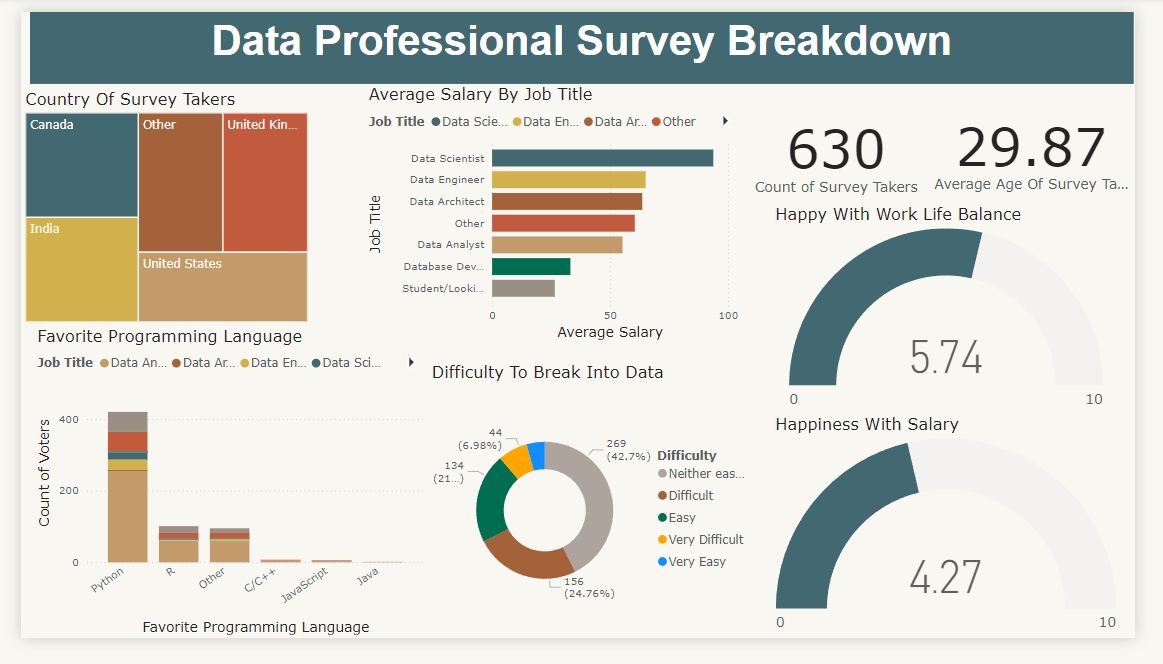

The dashboard page shown, as its layout file describes it:
{"tool":"powerbi","page":{"name":"Page 1","canvas":[1280,720],"ordinal":0},"visuals":[{"type":"textbox","box":[10.9,0,1268.4,83],"z":0},{"type":"card","fields":{"Values":["Count(Data Professional Survey.Unique ID)"]},"box":[828.7,85.9,214.7,152.7],"z":1000},{"type":"card","fields":{"Values":["Avg(Data Professional Survey.Q10 - Current Age)"]},"box":[1043.5,85.1,235.8,150.6],"z":2000},{"type":"barChart","title":"Average Salary By Job Title","fields":{"Category":["Data Professional Survey.Q1 - Which Title Best Fits your Current Role?.1"],"Y":["Avg(Data Professional Survey.Average Salary )"],"Series":["Data Professional Survey.Q1 - Which Title Best Fits your Current Role?.1"]},"box":[395.1,83,434.4,299.1],"z":3000},{"type":"columnChart","title":"  Favorite Programming Language","fields":{"Category":["Data Professional Survey.Q5 - Favorite Programming Language.1"],"Y":["CountNonNull(Data Professional Survey.Unique ID)"],"Series":["Data Professional Survey.Q1 - Which Title Best Fits your Current Role?.1"]},"box":[13.1,360.2,454.1,360.2],"z":4000},{"type":"treemap","title":"Country Of Survey Takers","fields":{"Group":["Data Professional Survey.Q11 - Which Country do you live in?.1"],"Values":["Count(Data Professional Survey.Q11 - Which Country do you live in?.1)"]},"box":[0,87.3,334,272.9],"z":5000},{"type":"gauge","title":"Happy With Work Life Balance","fields":{"Y":["Avg(Data Professional Survey.Q6 - How Happy are you in your Current Position with the following? (Work/Life Balance))"],"MinValue":["Min(Data Professional Survey.Q6 - How Happy are you in your Current Position with the following? (Work/Life Balance))1"],"MaxValue":["Max(Data Professional Survey.Q6 - How Happy are you in your Current Position with the following? (Work/Life Balance))"]},"box":[862.3,220.5,401.7,242.3],"z":6000},{"type":"gauge","title":"Happiness With Salary","fields":{"Y":["Avg(Data Professional Survey.Q6 - How Happy are you in your Current Position with the following? (Salary))"],"MinValue":["Min(Data Professional Survey.Q6 - How Happy are you in your Current Position with the following? (Salary))"],"MaxValue":["Max(Data Professional Survey.Q6 - How Happy are you in your Current Position with the following? (Salary))"]},"box":[862.3,462.8,401.7,257.6],"z":7000},{"type":"donutChart","title":"Difficulty To Break Into Data","fields":{"Category":["Data Professional Survey.Q7 - How difficult was it for you to break into Data?"],"Y":["CountNonNull(Data Professional Survey.Q7 - How difficult was it for you to break into Data?)"]},"box":[467.2,401.7,379.9,318.7],"z":8000}]}

Visuals, with their boxes in screenshot pixels (x1, y1, x2, y2), scaled from the page's 1280x720 canvas onto the 1163x664 screenshot:
textbox: Rect(10, 0, 1162, 77)
card - Count(Data Professional Survey.Unique ID): Rect(753, 79, 948, 220)
card - Avg(Data Professional Survey.Q10 - Current Age): Rect(948, 78, 1162, 217)
"Average Salary By Job Title" barChart: Rect(359, 77, 754, 352)
"  Favorite Programming Language" columnChart: Rect(12, 332, 424, 663)
"Country Of Survey Takers" treemap: Rect(0, 81, 303, 332)
"Happy With Work Life Balance" gauge: Rect(783, 203, 1148, 427)
"Happiness With Salary" gauge: Rect(783, 427, 1148, 663)
"Difficulty To Break Into Data" donutChart: Rect(424, 370, 770, 663)
